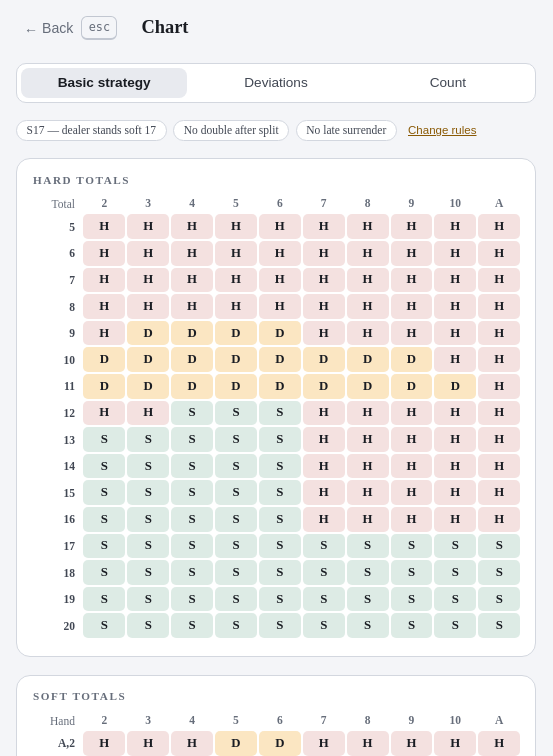
ChartPageComponent › the deviation list › follows the rule set — H17 carries its own index for 12 vs 4
The width and height of the screenshot is (553, 756).
Click the button with class "chart__mode" showing "Deviations". click: (276,83)
box: [193,68,359,98]
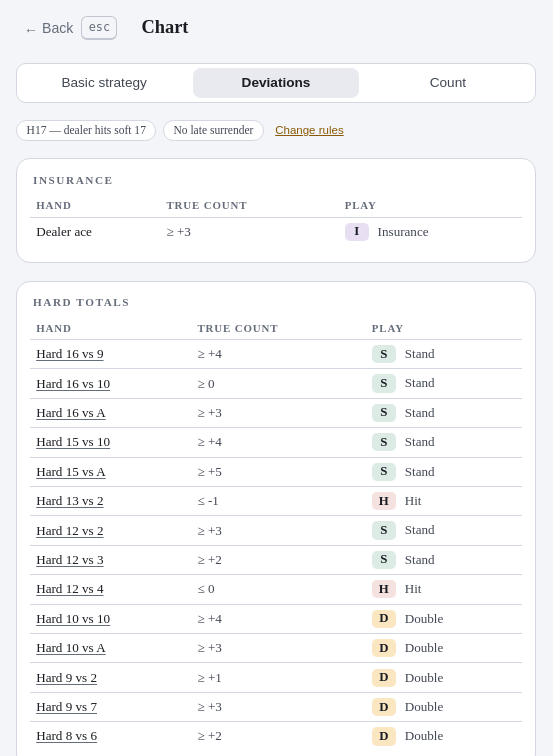
Expected: the row "Dealer ace ≥ +3 I Insurance" is shown, [30,218,522,246]
